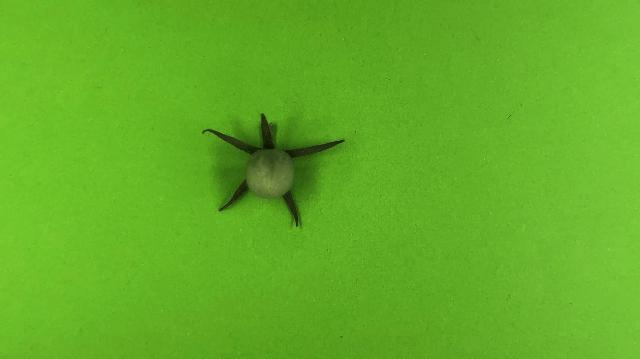Fruit Maturation: (245, 147, 296, 200)
